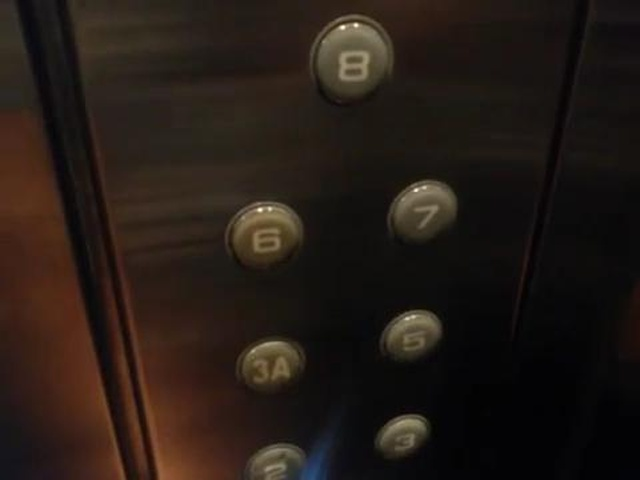3: (371, 412, 432, 461)
3A: (236, 335, 306, 396)
5: (378, 306, 444, 363)
6: (226, 199, 304, 274)
7: (386, 179, 461, 245)
8: (307, 13, 395, 108)
